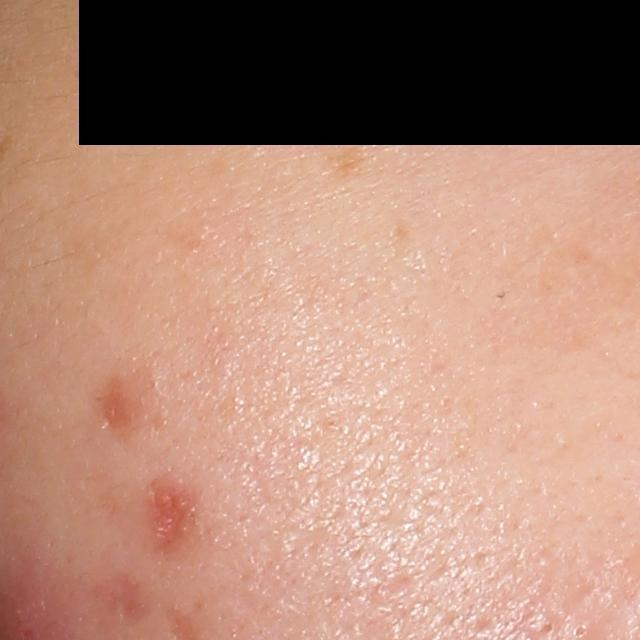comedo: (535, 621, 559, 639)
melasma: (324, 143, 378, 182)
